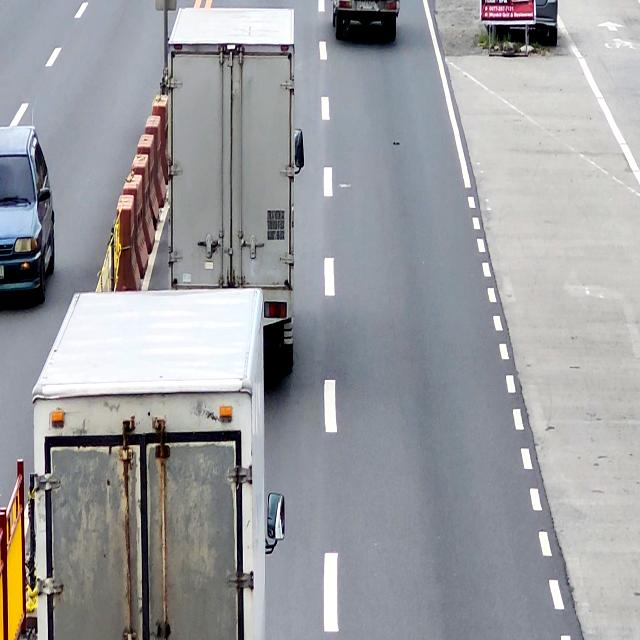Truck: (30, 286, 287, 640), (166, 4, 307, 377)
